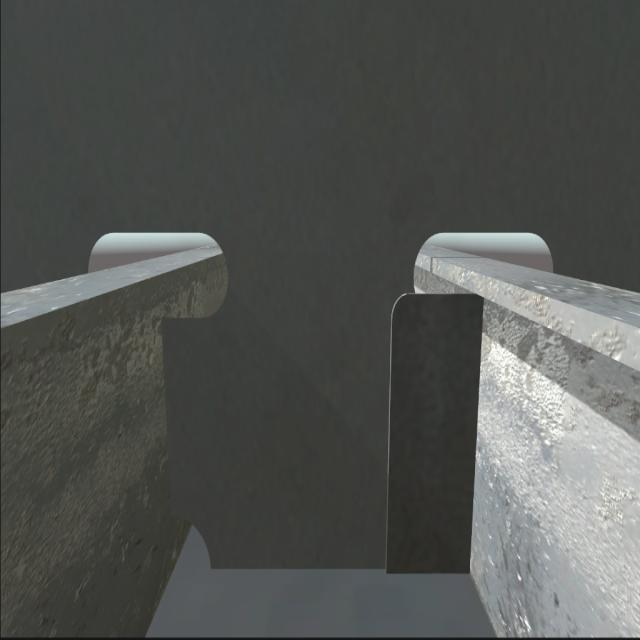fillet_hole: (168, 514, 210, 565)
fillet_yong_jeop_jang: (198, 560, 478, 582)
longi_yong_jeop_jang: (465, 292, 483, 583), (156, 311, 176, 530)
plate_CP05: (389, 290, 474, 580)
